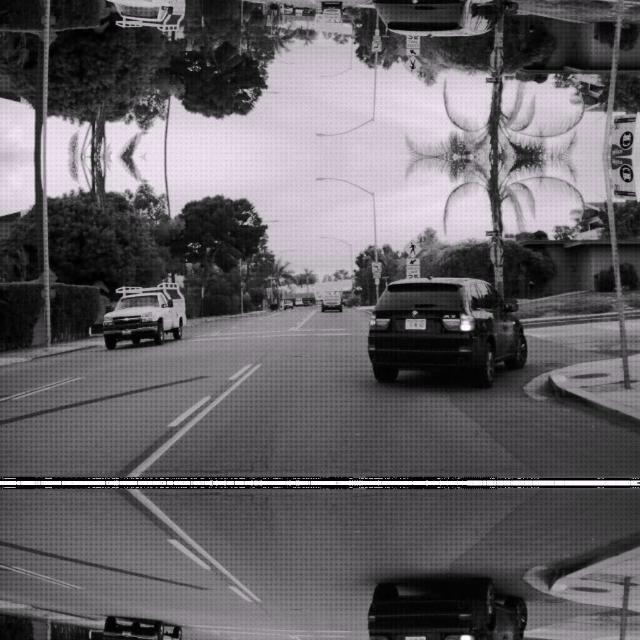pedestrianCrossing: (402, 237, 422, 257), (402, 55, 422, 75)
